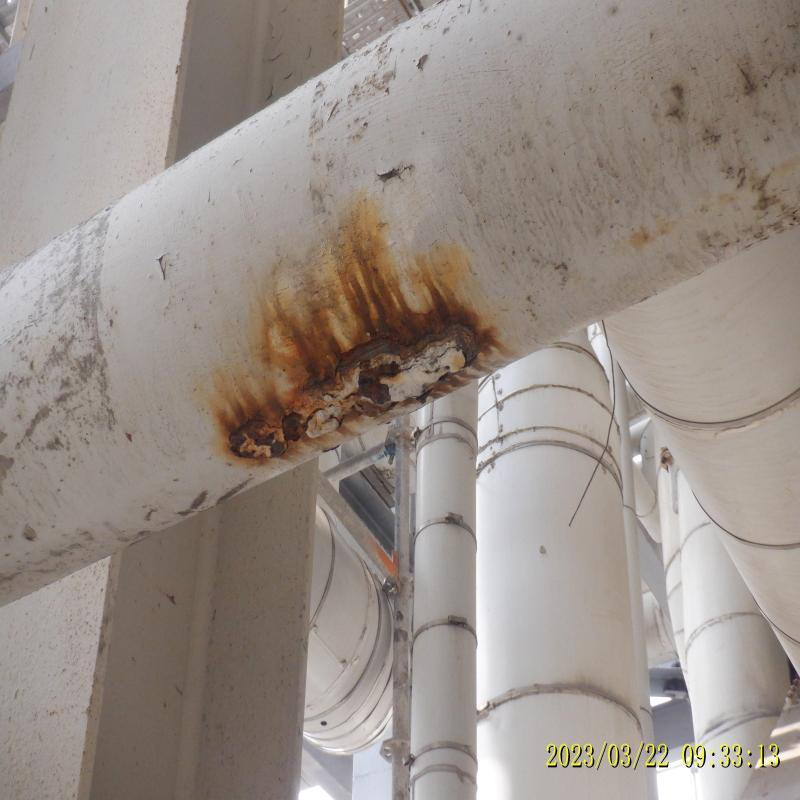corrosion: (264, 303, 462, 368), (222, 398, 396, 445)
